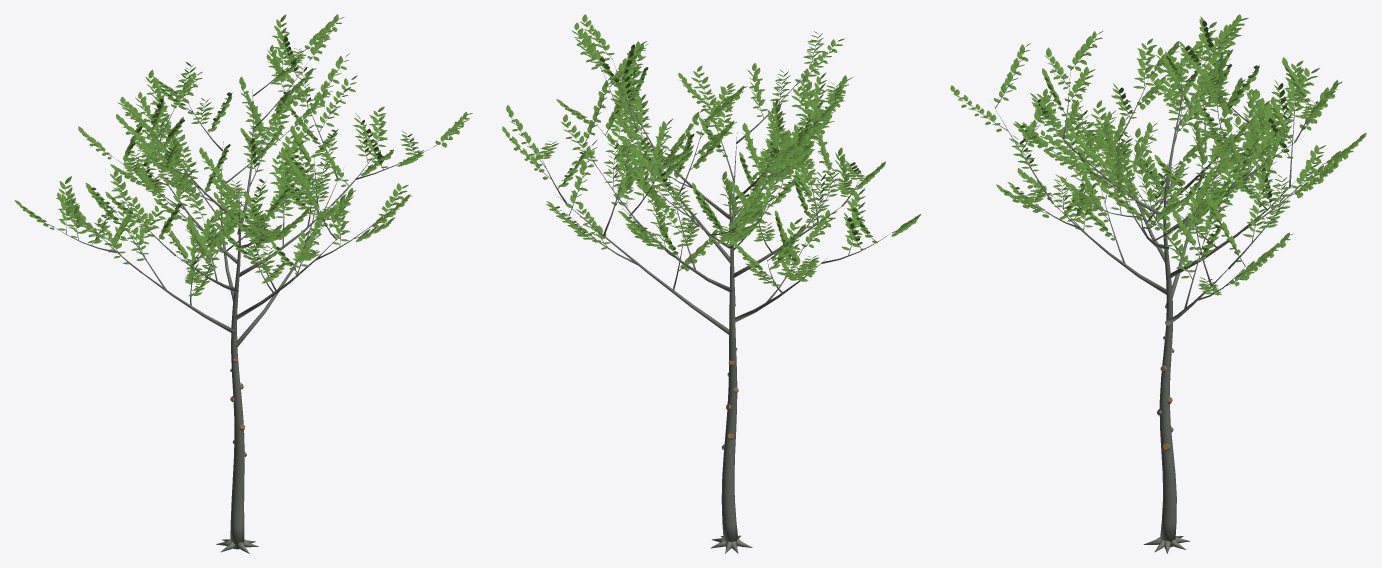
The model's file is Beech_Mature_02_HighPruned_Recent_LOD0.fbx.
The picture shows the model from 3 angles, left to right: view 1: azimuth 30°, elevation 25°; view 2: azimuth 150°, elevation 25°; view 3: azimuth 270°, elevation 25°; orthographic projection. The views are drawn at different scales.
Parts seen in each view (by area): view 1: Beech_Mature_02_HighPruned_Recent_LOD0; view 2: Beech_Mature_02_HighPruned_Recent_LOD0; view 3: Beech_Mature_02_HighPruned_Recent_LOD0.
Part boxes in pixels (x1=…): Beech_Mature_02_HighPruned_Recent_LOD0: x1=14, y1=14, x2=472, y2=553; Beech_Mature_02_HighPruned_Recent_LOD0: x1=502, y1=14, x2=921, y2=553; Beech_Mature_02_HighPruned_Recent_LOD0: x1=950, y1=14, x2=1366, y2=553.
Bounding box in the file's own units: 1936 × 2301 × 1626.
3 materials, 2 textured.
